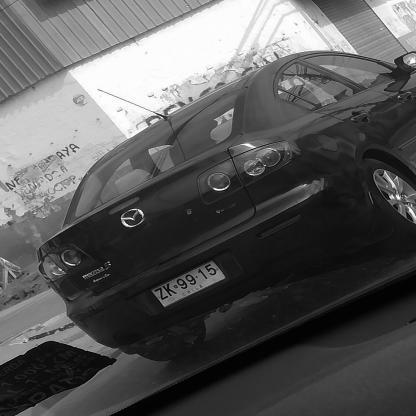Patente: (147, 257, 231, 313)
